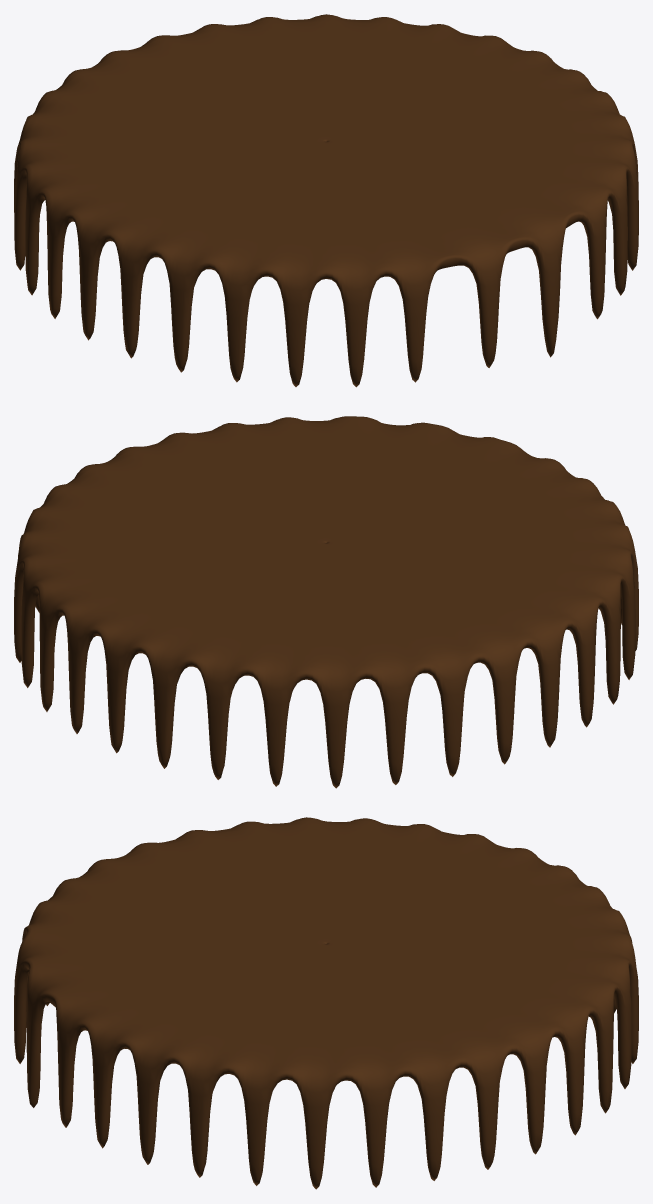
Rendered from drip5.fbx.
3 renders of one model, top to bottom at view 1: azimuth 30°, elevation 25°; view 2: azimuth 150°, elevation 25°; view 3: azimuth 270°, elevation 25°, orthographic.
Parts seen in each view (by area): view 1: drip5; view 2: drip5; view 3: drip5.
Boxes of the visible parts, bbox=[...] form: drip5: bbox=[14, 14, 638, 387]; drip5: bbox=[14, 416, 638, 788]; drip5: bbox=[14, 817, 638, 1189].
Size of the model in its own units: 204 by 46.04 by 204.
